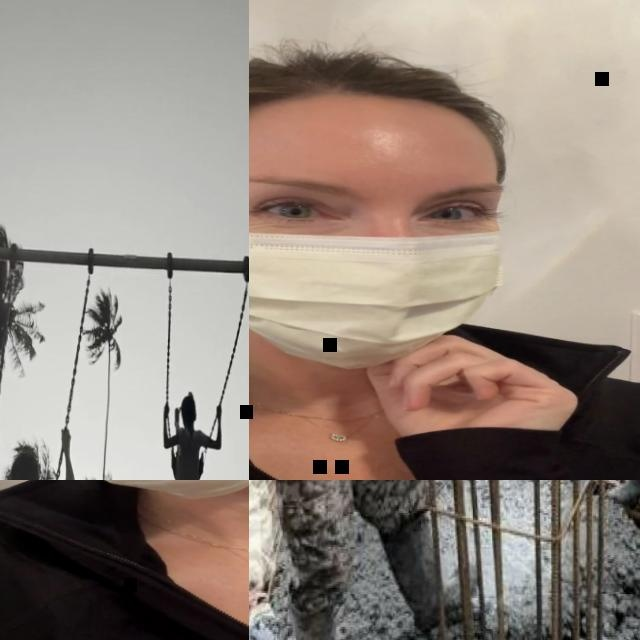Mask: (249, 180, 495, 362)
NO-Hardhat: (249, 40, 499, 142), (11, 443, 38, 469), (180, 390, 198, 412)
NO-Safety Vest: (249, 359, 640, 480), (0, 501, 249, 640), (175, 425, 202, 480)
Person: (249, 38, 640, 480), (0, 480, 249, 640), (249, 480, 484, 640), (160, 388, 221, 480), (0, 417, 77, 480)
